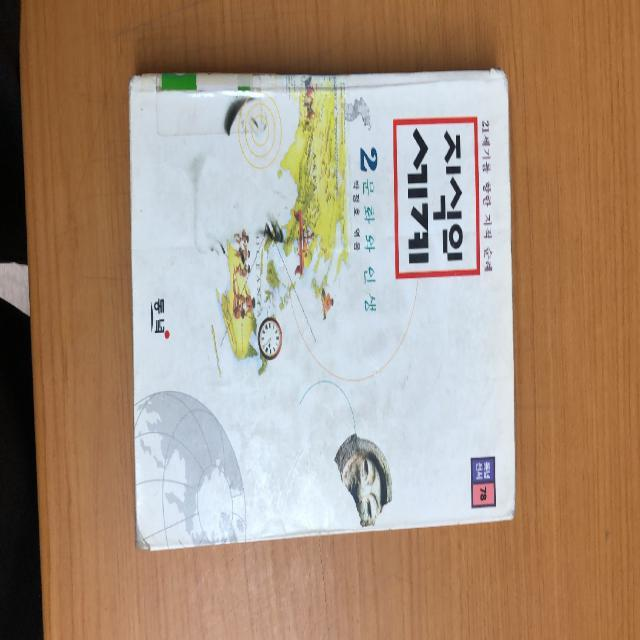Ripped: (486, 64, 513, 98), (133, 519, 153, 554)
Wornout: (124, 72, 134, 217), (504, 455, 518, 522)
